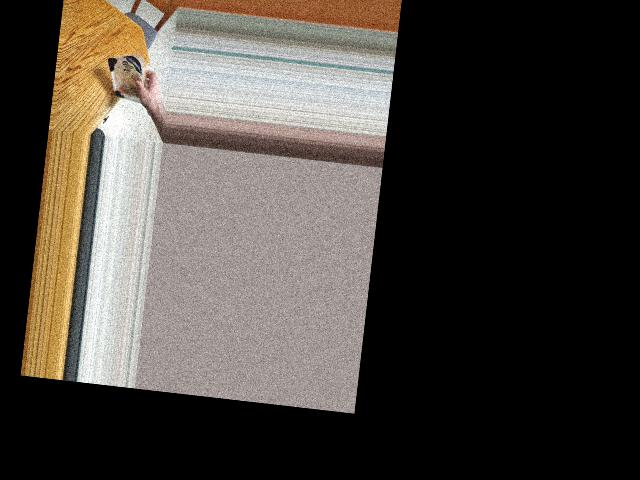cheese: (107, 50, 148, 105)
